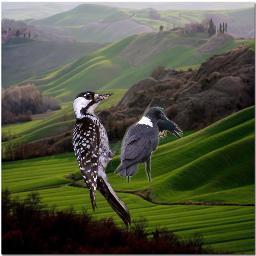Crow: (114, 107, 166, 183), (151, 106, 183, 139)
Woodpecker: (71, 91, 131, 230)
